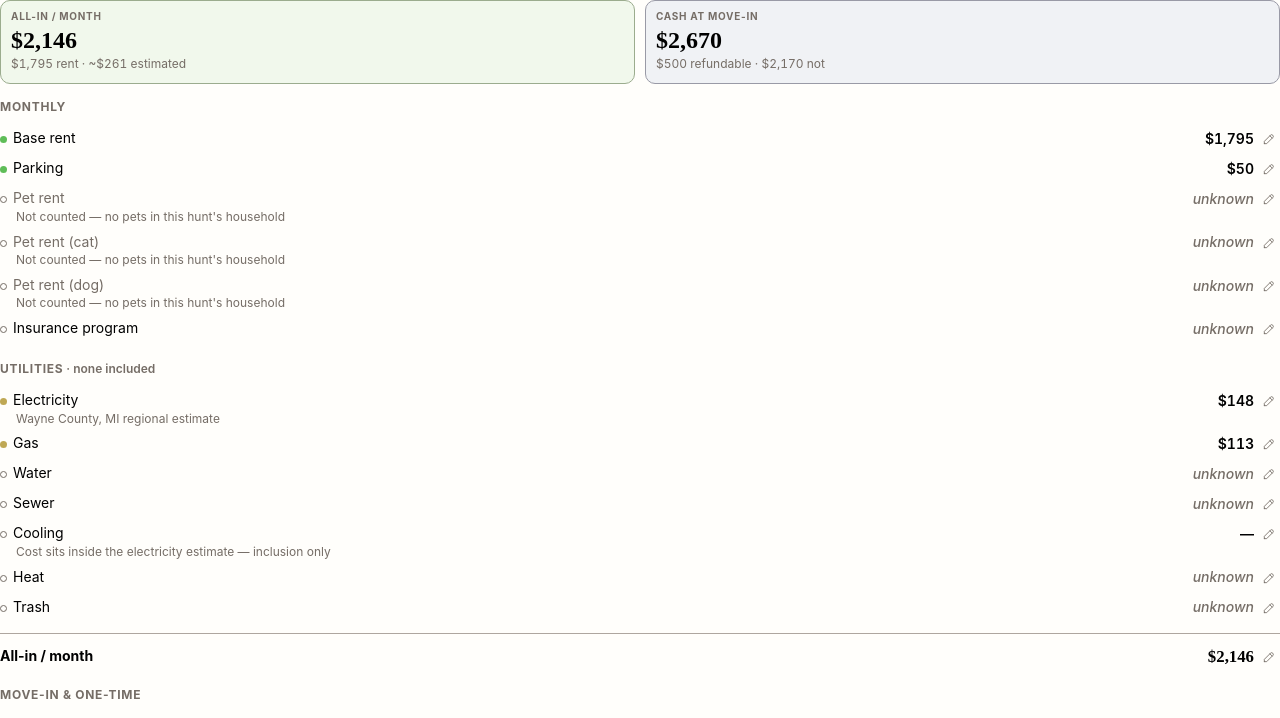
Test: CostAndFees › marks a pending edit as provisional, distinct from a saved override
Step 1. Click the button named "edit Parking" → [1269, 170], box [1258,158,1279,180]
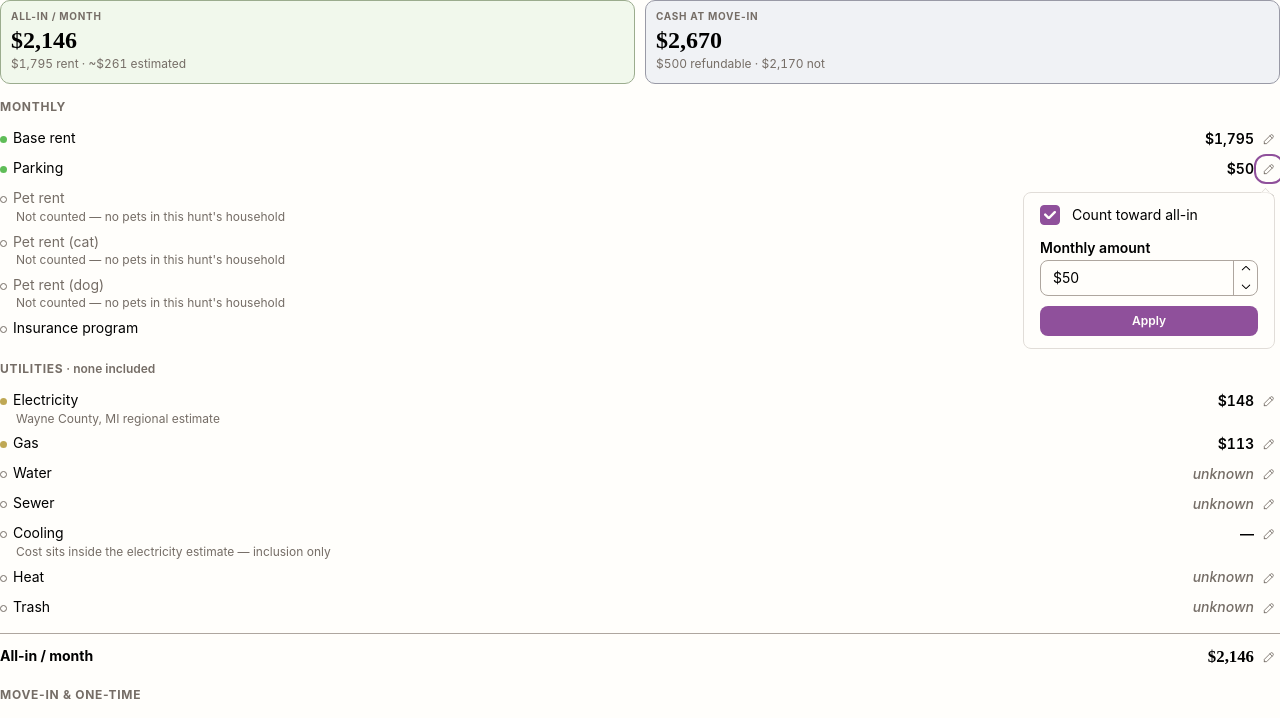
Step 2. Replace the text in the field labelled "Monthly amount" with "75" → [1149, 278], box [1040,260,1258,296]
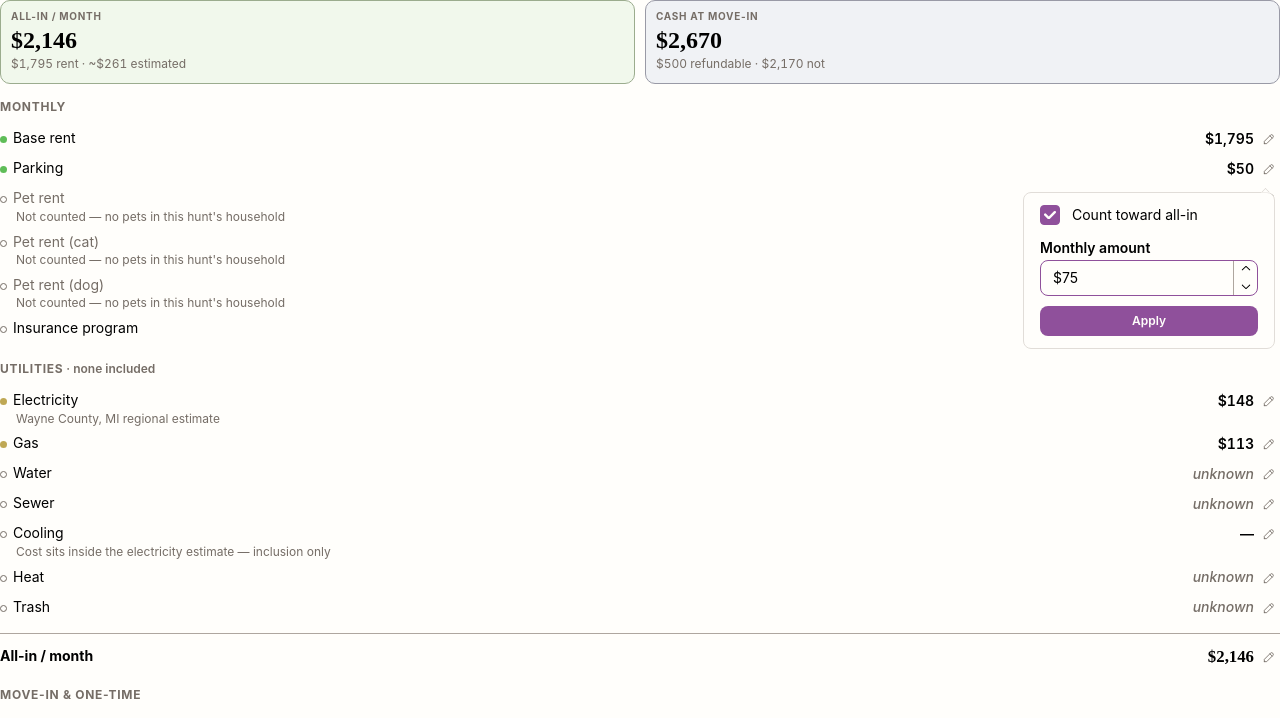
Step 3. Click the button "Apply" → [1149, 321], box [1040,306,1258,336]
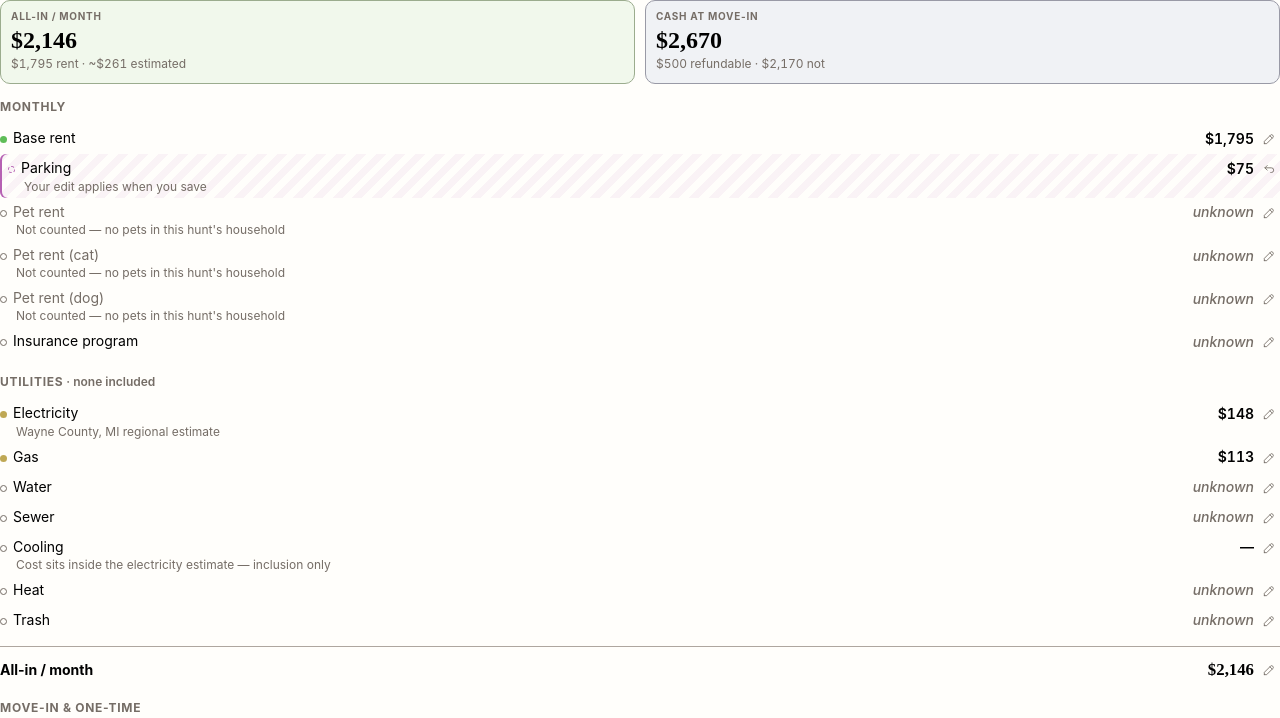
Result: the text "Your edit applies when you save" is shown at [24,179,207,194]
